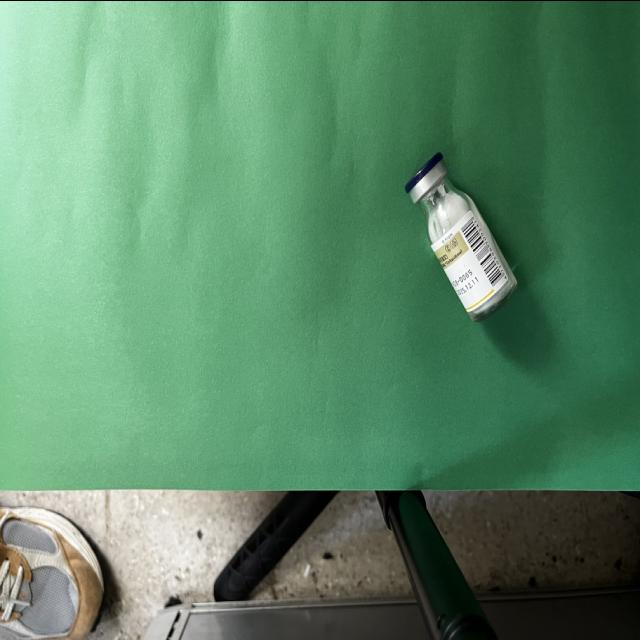Vials: (406, 153, 517, 321)
